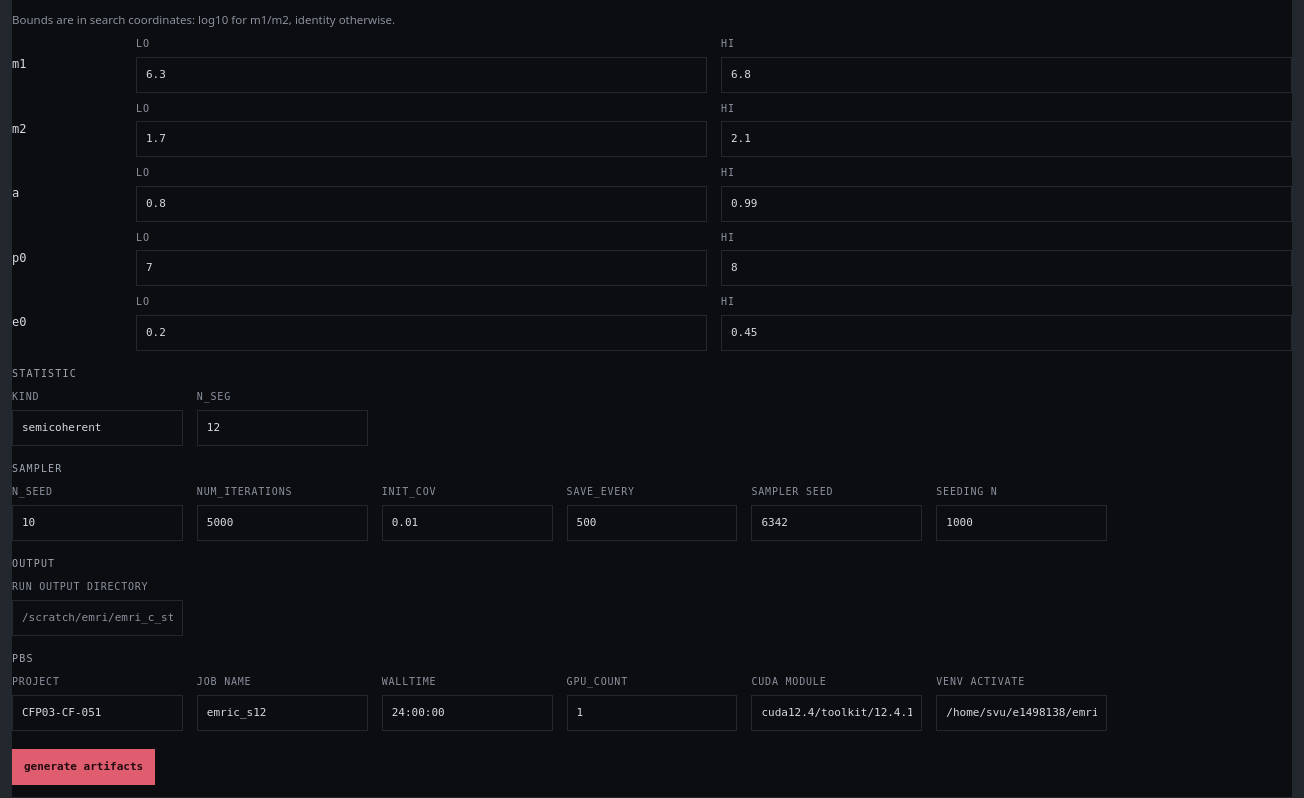
Test case: ConfigBuilder › renders a validation error from the API
(page scrolled)
Click the button "generate artifacts" at (84, 767), box [12,749,155,785]
(page scrolled)
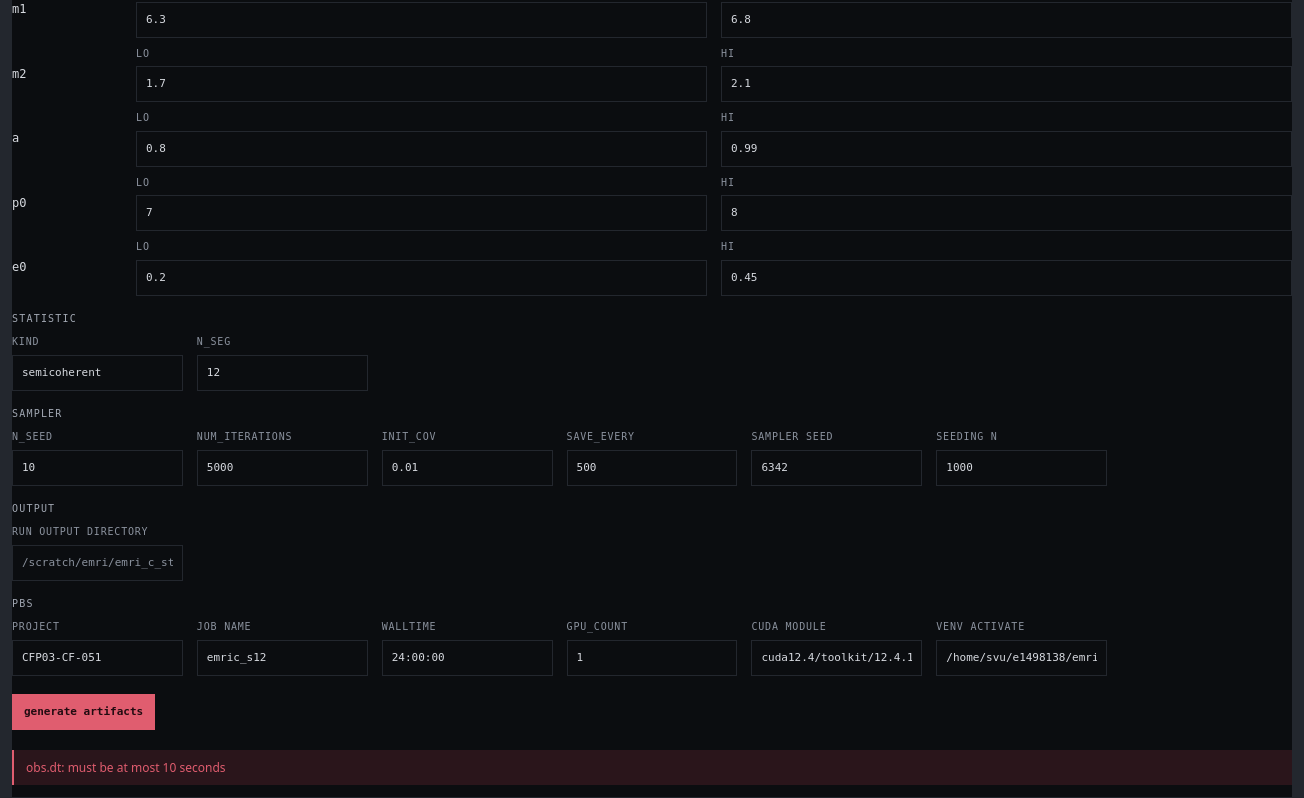
Now the text "obs.dt: must be at most 10 seconds" is shown, box [26,759,226,776]
